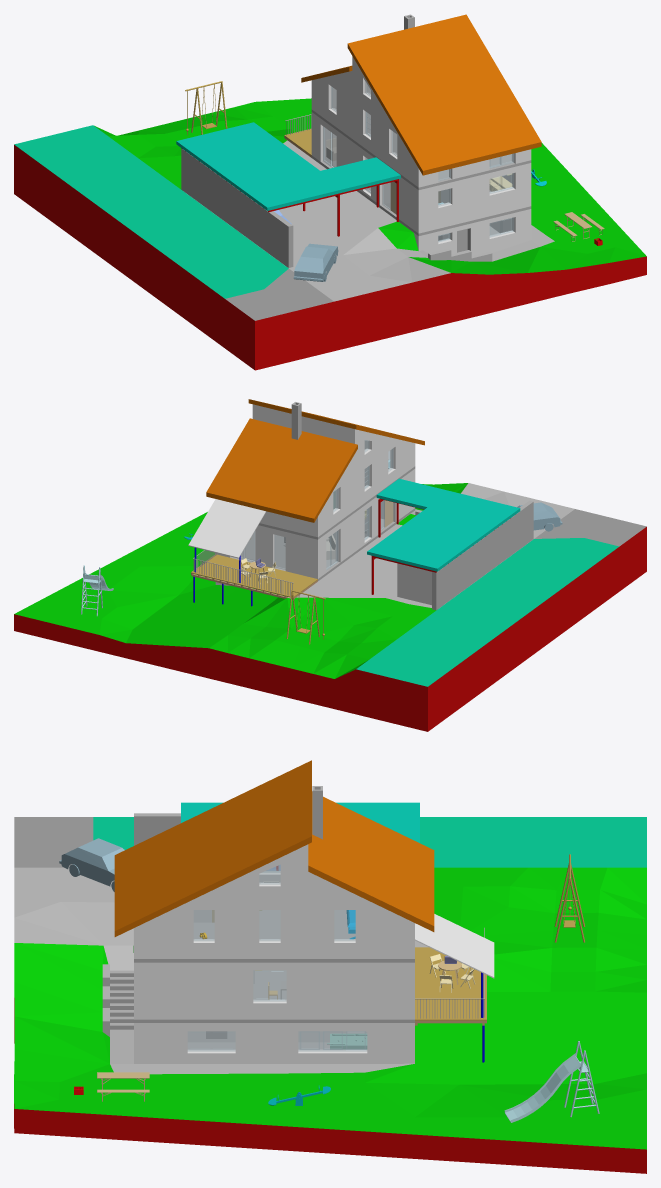
3 views of the same model, one above another, from view 1: azimuth 30°, elevation 25°; view 2: azimuth 150°, elevation 25°; view 3: azimuth 270°, elevation 25° (orthographic). The views are drawn at different scales.
Parts seen in each view (by area): view 1: 1HpsbYjyTBVgjfZRxPozpy, 3d1SXOdlnFBAQvPV0xKZv5, 2TijLvYGb58OI9FObapU8r, 1v5gsPvp50Qe_sSbAXwh2x, 32YSspPXX9lumv3gw8C096, 07cIOfu9b7IvFBeauL47_0, 1fzq1C9xfB7xfJf2k7oRrB, 1sGz4xQlrBcQ_Ct7lAcIbS, 1OJLWlC0P1q8KFc6PsWgBl, 0ieqCJ5Mf5ehKLRyjuAhLq, 230wR6fAf84fX679m3tQCi, 02vguoQmD22got$PIXX3oA (+7 smaller); view 2: 1v5gsPvp50Qe_sSbAXwh2x, 1HpsbYjyTBVgjfZRxPozpy, 2TijLvYGb58OI9FObapU8r, 2bQokYdB1Dp8NndPPBmOnr, 07cIOfu9b7IvFBeauL47_0, 1fzq1C9xfB7xfJf2k7oRrB, 32YSspPXX9lumv3gw8C096, 1sGz4xQlrBcQ_Ct7lAcIbS, 3dZj76IK18s8GPo37fGhQx, 0ieqCJ5Mf5ehKLRyjuAhLq, 2Oj2gOHefFkORIRw8PJC_h, 230wR6fAf84fX679m3tQCi (+10 smaller); view 3: 1v5gsPvp50Qe_sSbAXwh2x, 3jGgI6df15ZBYKzN3p2ndc, 3d1SXOdlnFBAQvPV0xKZv5, 1HpsbYjyTBVgjfZRxPozpy, 3pJWM75uv0eAoa8zr64yTB, 2TijLvYGb58OI9FObapU8r, 2bQokYdB1Dp8NndPPBmOnr, 27UVQ8o_D5_wxQPl$L_zww, 32YSspPXX9lumv3gw8C096, 2Oj2gOHefFkORIRw8PJC_h, 230wR6fAf84fX679m3tQCi, 0JoAsOl_b5dBvgZP$ZPqZy (+18 smaller).
Boxes of the visible parts, <box> form: 1HpsbYjyTBVgjfZRxPozpy: <box>14,144,646,370</box>; 3d1SXOdlnFBAQvPV0xKZv5: <box>347,14,541,175</box>; 2TijLvYGb58OI9FObapU8r: <box>14,125,288,298</box>; 1v5gsPvp50Qe_sSbAXwh2x: <box>94,98,646,274</box>; 32YSspPXX9lumv3gw8C096: <box>186,140,450,301</box>; 07cIOfu9b7IvFBeauL47_0: <box>176,122,400,210</box>; 1fzq1C9xfB7xfJf2k7oRrB: <box>311,56,424,187</box>; 1sGz4xQlrBcQ_Ct7lAcIbS: <box>181,148,293,267</box>; 1OJLWlC0P1q8KFc6PsWgBl: <box>418,163,531,233</box>; 0ieqCJ5Mf5ehKLRyjuAhLq: <box>311,112,418,233</box>; 230wR6fAf84fX679m3tQCi: <box>225,269,333,320</box>; 02vguoQmD22got$PIXX3oA: <box>418,209,531,255</box>; 1v5gsPvp50Qe_sSbAXwh2x: <box>14,483,467,678</box>; 1HpsbYjyTBVgjfZRxPozpy: <box>14,527,646,731</box>; 2TijLvYGb58OI9FObapU8r: <box>356,538,619,686</box>; 2bQokYdB1Dp8NndPPBmOnr: <box>206,418,357,522</box>; 07cIOfu9b7IvFBeauL47_0: <box>367,478,520,571</box>; 1fzq1C9xfB7xfJf2k7oRrB: <box>314,428,415,536</box>; 32YSspPXX9lumv3gw8C096: <box>288,483,574,608</box>; 1sGz4xQlrBcQ_Ct7lAcIbS: <box>432,500,533,610</box>; 3dZj76IK18s8GPo37fGhQx: <box>188,499,265,558</box>; 0ieqCJ5Mf5ehKLRyjuAhLq: <box>318,469,415,578</box>; 2Oj2gOHefFkORIRw8PJC_h: <box>191,554,317,597</box>; 230wR6fAf84fX679m3tQCi: <box>534,509,646,546</box>; 1v5gsPvp50Qe_sSbAXwh2x: <box>14,867,646,1149</box>; 3jGgI6df15ZBYKzN3p2ndc: <box>134,844,414,958</box>; 3d1SXOdlnFBAQvPV0xKZv5: <box>114,760,311,936</box>; 1HpsbYjyTBVgjfZRxPozpy: <box>14,998,646,1173</box>; 3pJWM75uv0eAoa8zr64yTB: <box>134,962,414,1019</box>; 2TijLvYGb58OI9FObapU8r: <box>93,817,646,867</box>; 2bQokYdB1Dp8NndPPBmOnr: <box>308,791,434,931</box>; 27UVQ8o_D5_wxQPl$L_zww: <box>134,1023,414,1063</box>; 32YSspPXX9lumv3gw8C096: <box>14,867,428,970</box>; 2Oj2gOHefFkORIRw8PJC_h: <box>415,947,486,1020</box>; 230wR6fAf84fX679m3tQCi: <box>14,817,93,867</box>; 0JoAsOl_b5dBvgZP$ZPqZy: <box>110,1037,414,1074</box>.
Size of the model in its own units: 28.81 by 12.29 by 26.43.
